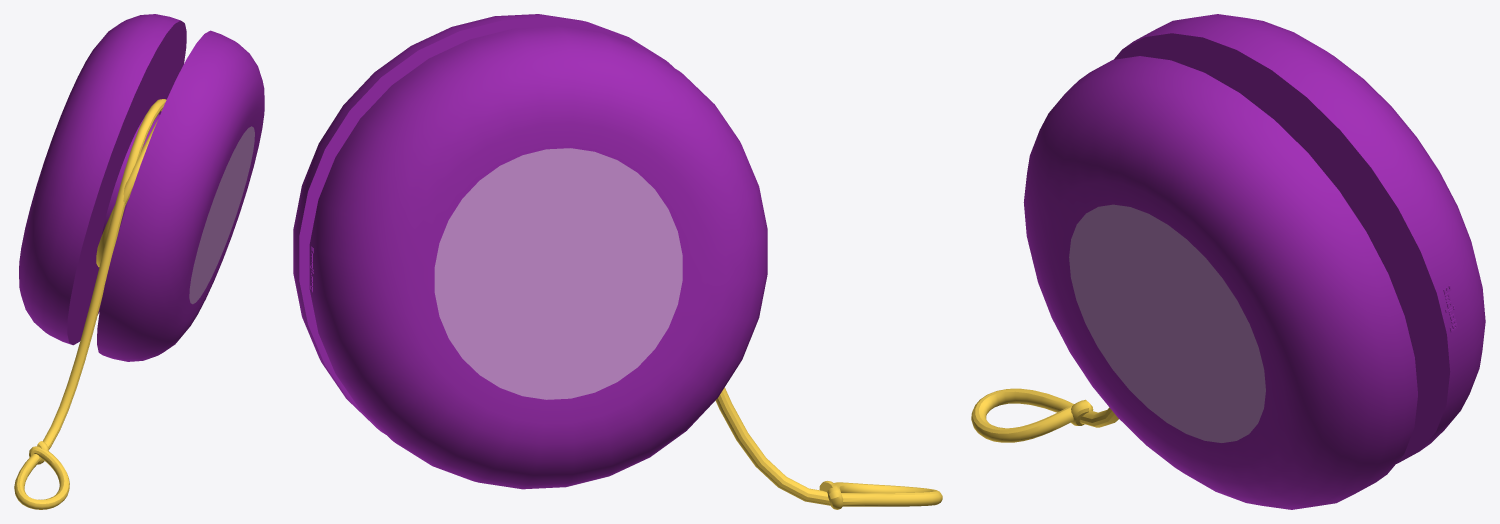
The model's file is yoyo.fbx.
3 views of the same model, side by side, from view 1: azimuth 30°, elevation 25°; view 2: azimuth 150°, elevation 25°; view 3: azimuth 270°, elevation 25° (orthographic). The views are drawn at different scales.
Parts seen in each view (by area): view 1: Cylinder.481; view 2: Cylinder.481; view 3: Cylinder.481.
Part boxes in pixels (left/top/right/bottom): Cylinder.481: left=14, top=14, right=264, bottom=509; Cylinder.481: left=293, top=14, right=942, bottom=509; Cylinder.481: left=971, top=14, right=1485, bottom=509.
Bounding box in the file's own units: 205 × 204 × 179.
Materials: 1 (1 with a texture image).
